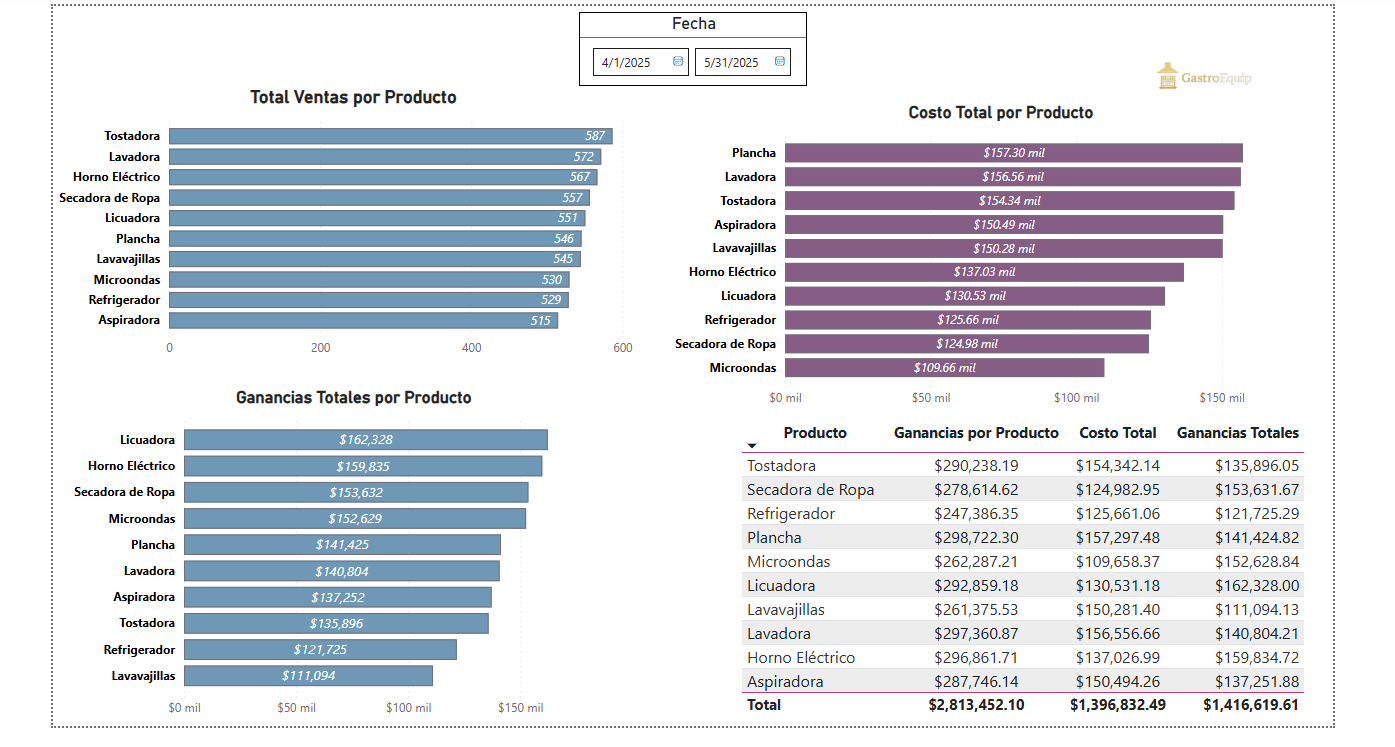

The dashboard page shown, as its layout file describes it:
{"tool":"powerbi","page":{"name":"Graficacion","canvas":[1280,720],"ordinal":4},"visuals":[{"type":"clusteredBarChart","title":"Total Ventas por Producto","fields":{"Category":["data.Producto"],"Y":["Sum(data.Cantidad vendida)"]},"box":[0,79.8,601.2,280.2],"z":1000},{"type":"clusteredBarChart","title":"Costo Total por Producto","fields":{"Y":["Sum(data.Costo Total)"],"Category":["data.Producto"]},"box":[615.8,95.7,664.2,314.5],"z":2000},{"type":"clusteredBarChart","title":"Ganancias Totales por Producto","fields":{"Category":["data.Producto"],"Y":["Sum(data.Ganancias Totales)"]},"box":[15.4,380.9,571.3,339.1],"z":3000},{"type":"slicer","title":"Fecha","fields":{"Values":["data.Fecha"]},"box":[525.9,6.3,228.5,73.5],"z":4000},{"type":"tableEx","fields":{"Values":["data.Producto","Sum(data.Ganancias por Producto)","Sum(data.Costo Total)","Sum(data.Ganancias Totales)"]},"box":[683.3,410.2,596.7,309.4],"z":5000},{"type":"image","box":[1020.2,0,260.3,146],"z":6000}]}

Visuals, with their boxes on the page's 1280x720 design canvas (x1, y1, x2, y2). These are canvas units, not pixel positions in the 1395x747 screenshot, which may show the page scaled, cropped or inside an application window:
"Total Ventas por Producto" clusteredBarChart: crop(0, 80, 601, 360)
"Costo Total por Producto" clusteredBarChart: crop(616, 96, 1280, 410)
"Ganancias Totales por Producto" clusteredBarChart: crop(15, 381, 587, 720)
"Fecha" slicer: crop(526, 6, 754, 80)
tableEx - data.Producto x Sum(data.Ganancias por Producto): crop(683, 410, 1280, 720)
image: crop(1020, 0, 1280, 146)
